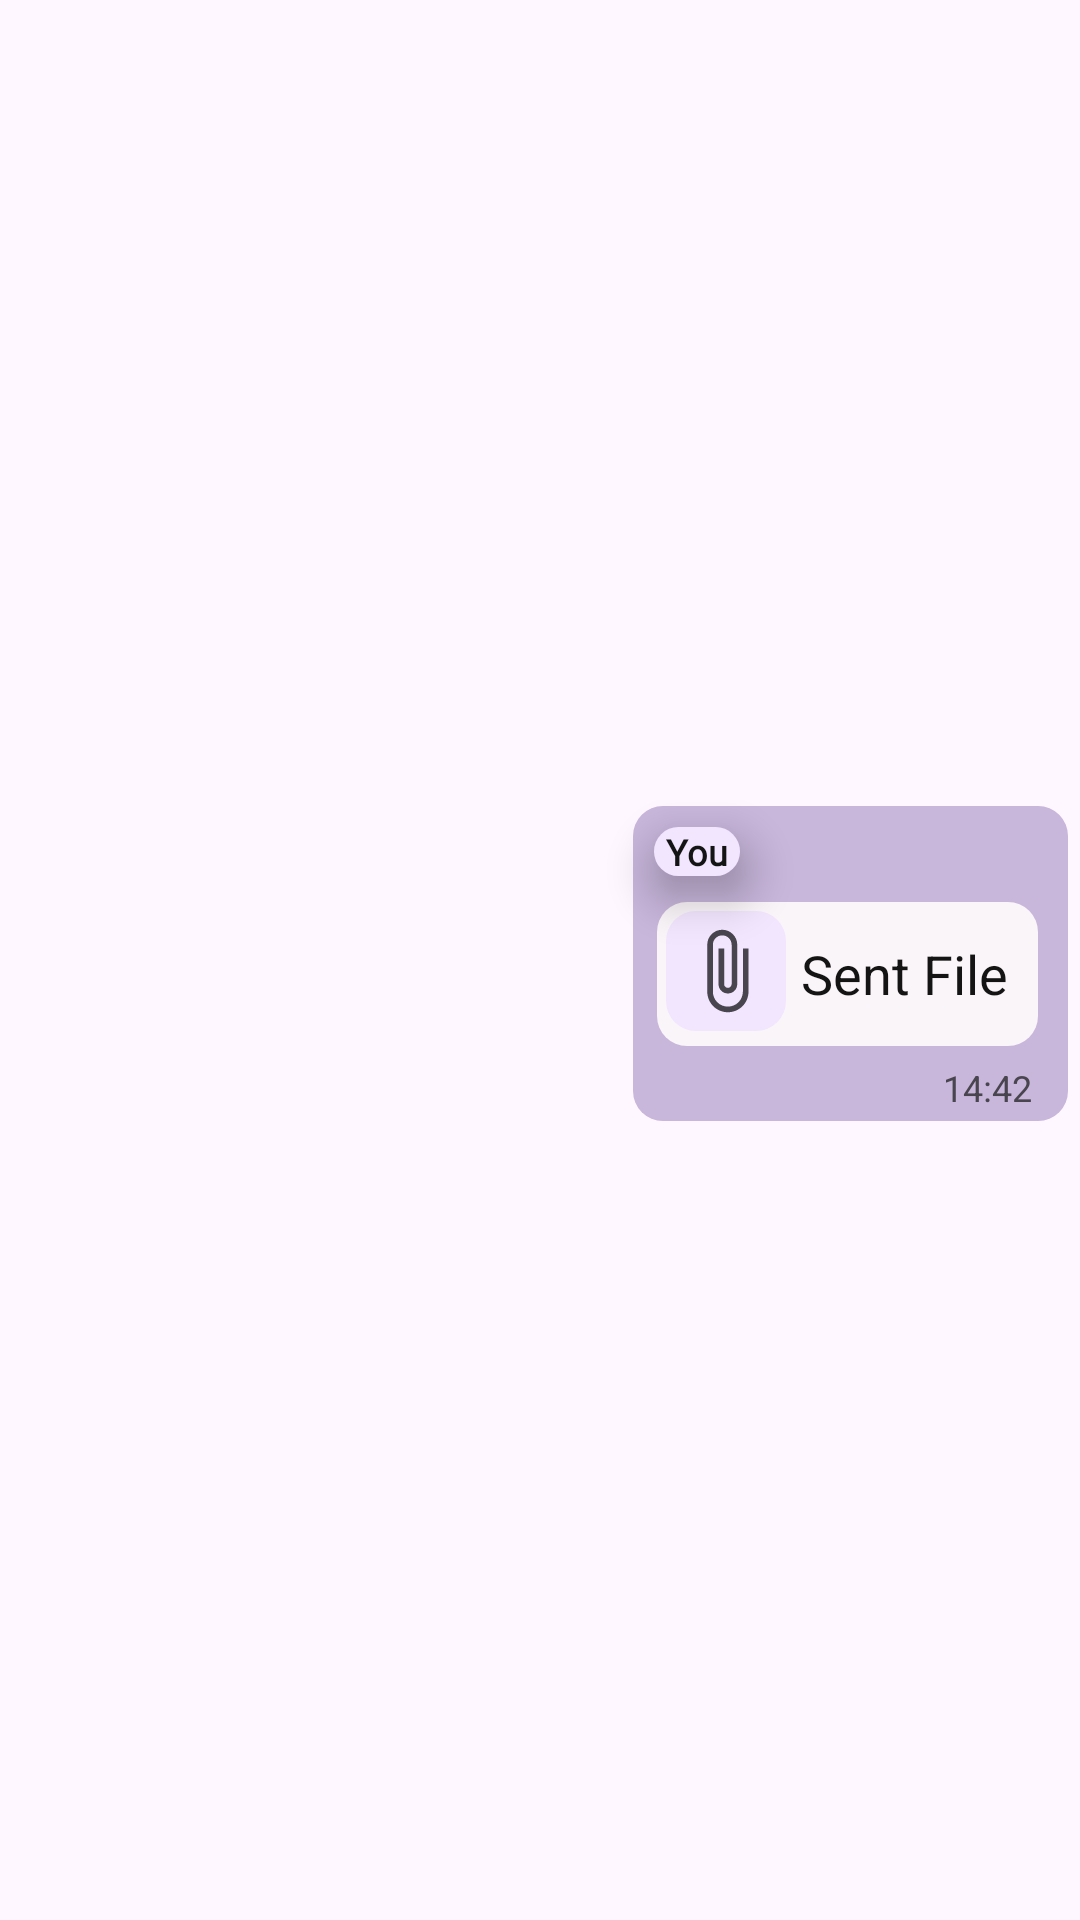

Icon bounding boxes for this 1080px×1920px phone screenshot, format [x1,y1,x2,y2]:
attach file: [666,911,786,1031]
